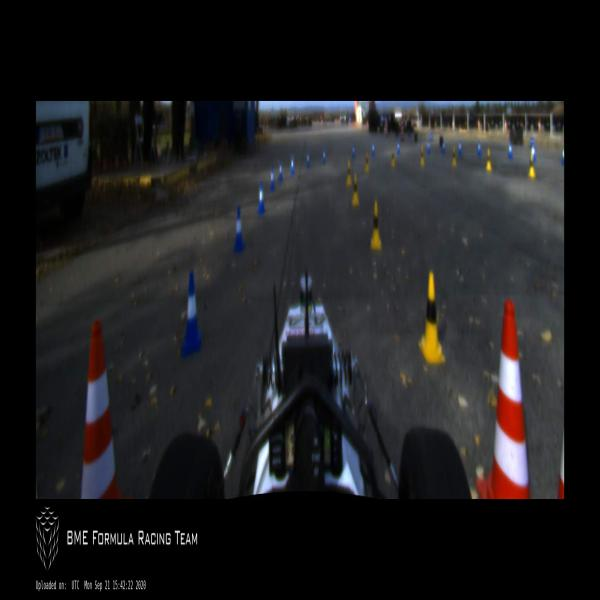blue_cone: (179, 269, 202, 358), (232, 205, 245, 254), (257, 182, 265, 213), (269, 166, 275, 189), (530, 138, 536, 160), (278, 160, 284, 179), (305, 150, 310, 167), (477, 138, 481, 158), (508, 140, 512, 160), (290, 156, 294, 175), (458, 140, 462, 156), (322, 148, 326, 164), (371, 143, 375, 157), (426, 140, 430, 154), (352, 144, 355, 160), (442, 140, 445, 154), (397, 140, 400, 154), (562, 147, 564, 163), (430, 132, 432, 139)
large_orange_cone: (475, 300, 534, 498), (80, 319, 123, 498)
orange_cone: (505, 120, 508, 130), (538, 119, 540, 130)
unknown_cone: (366, 121, 368, 131), (352, 120, 354, 128), (362, 122, 364, 129), (359, 120, 360, 128), (356, 120, 357, 128)
yellow_cone: (418, 272, 445, 364), (370, 201, 382, 249), (352, 175, 360, 206), (528, 150, 535, 177), (485, 148, 492, 172), (346, 160, 352, 186), (364, 151, 369, 173), (390, 149, 395, 168), (420, 144, 424, 164), (452, 147, 456, 167)
